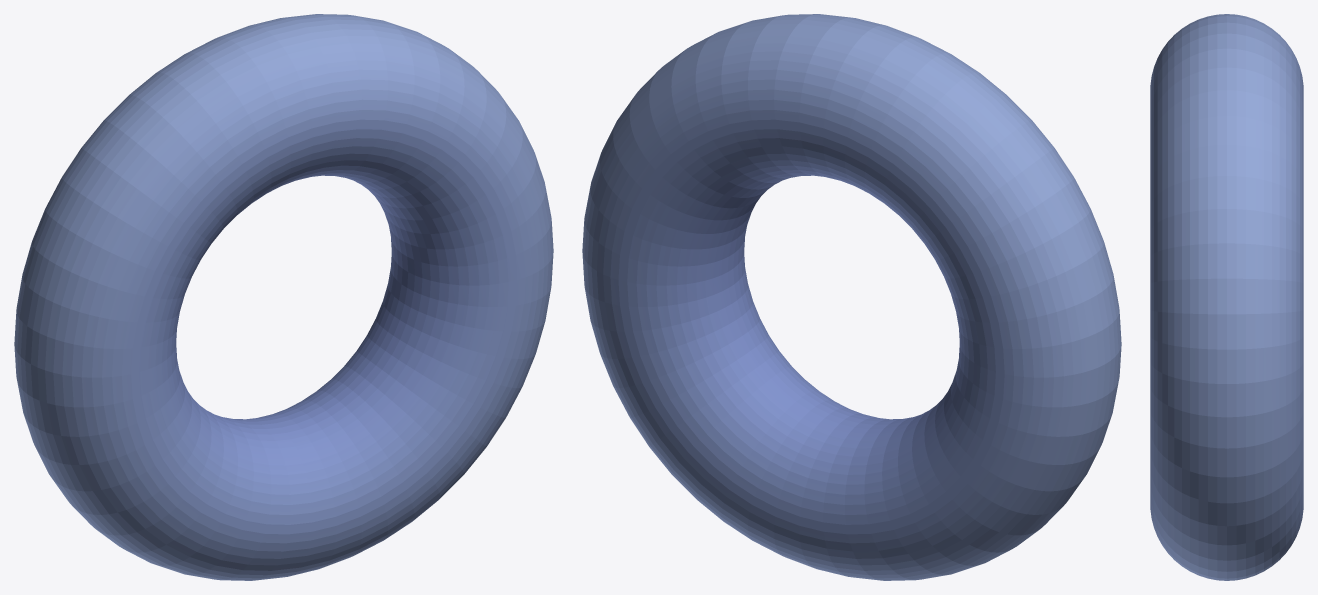
3 views of the same model, side by side, from view 1: azimuth 30°, elevation 25°; view 2: azimuth 150°, elevation 25°; view 3: azimuth 270°, elevation 25° (orthographic). The views are drawn at different scales.
Parts seen in each view (by area): view 1: world; view 2: world; view 3: world.
Part boxes in pixels (x1,y1,x2,y2): world: (14, 14, 553, 580); world: (582, 14, 1121, 580); world: (1150, 14, 1303, 580).
Size of the model in its own units: 19.2 by 19.16 by 5.19.
